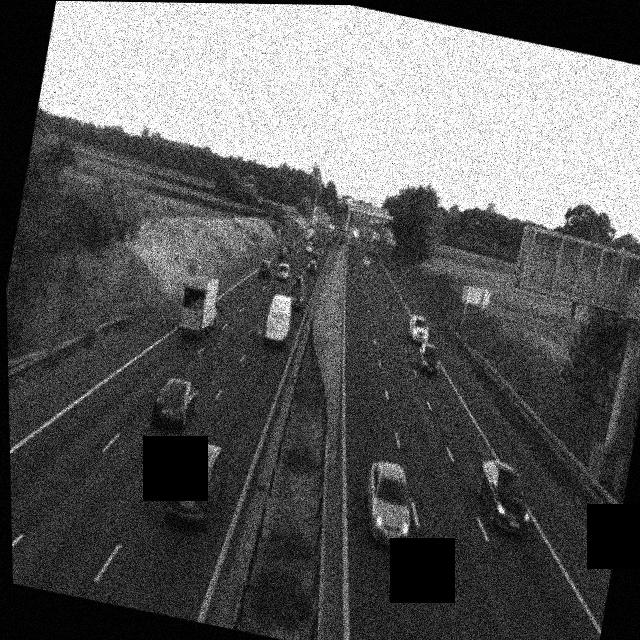car: (162, 436, 232, 532), (355, 457, 422, 550), (470, 457, 538, 537), (150, 375, 202, 434), (416, 342, 442, 375), (407, 314, 432, 345), (288, 287, 304, 313), (275, 261, 291, 282), (257, 258, 273, 278), (304, 258, 318, 277), (275, 246, 287, 262), (363, 254, 373, 267), (288, 239, 298, 252)
truck: (174, 272, 224, 343)
